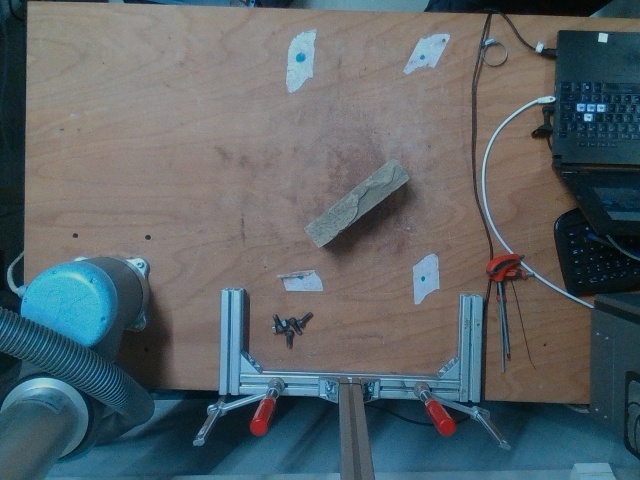brick-side: (305, 162, 405, 244)
